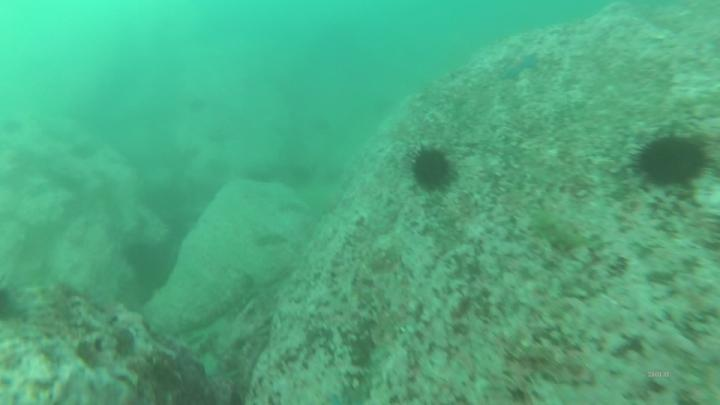echinus: (641, 139, 707, 185), (417, 151, 452, 187)
holothurian: (532, 212, 584, 250)
starfish: (507, 54, 536, 79)
